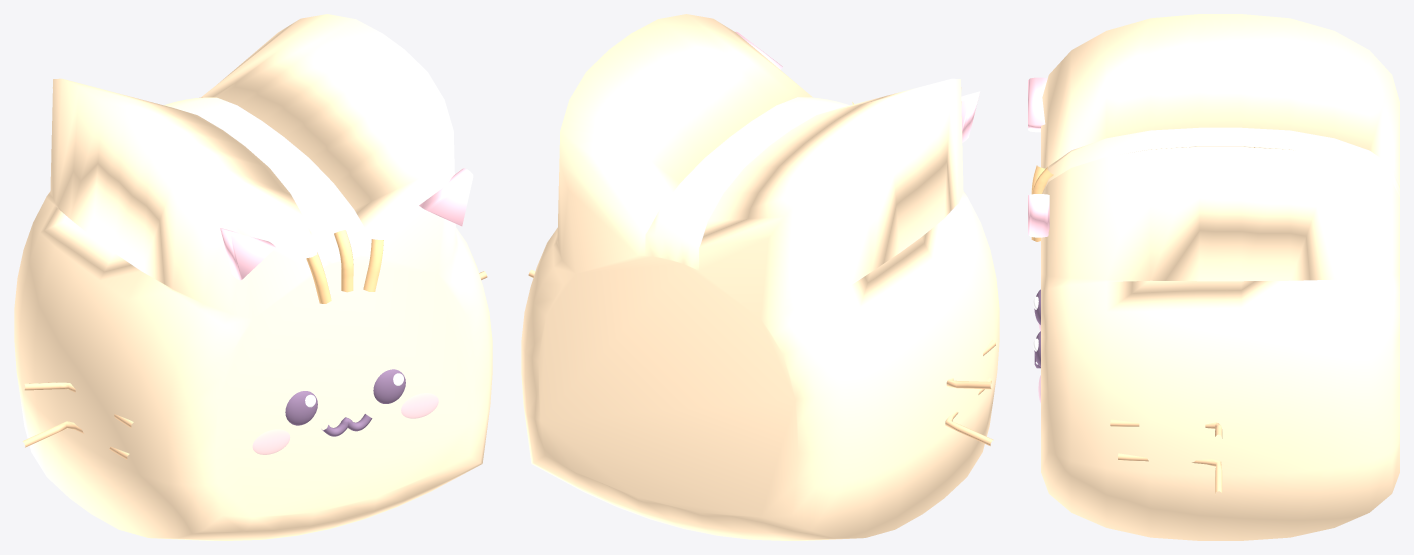
File: squishy_kitty.glb
3 views of the same model, side by side, from view 1: azimuth 30°, elevation 25°; view 2: azimuth 150°, elevation 25°; view 3: azimuth 270°, elevation 25° (orthographic). The views are drawn at different scales.
Visible parts, largest first — view 1: kitty; view 2: kitty; view 3: kitty.
Boxes of the visible parts, bbox=[...] form: kitty: bbox=[14, 14, 492, 540]; kitty: bbox=[521, 14, 999, 540]; kitty: bbox=[1028, 14, 1399, 540].
Size of the model in its own units: 1.15 by 1 by 0.8219.
